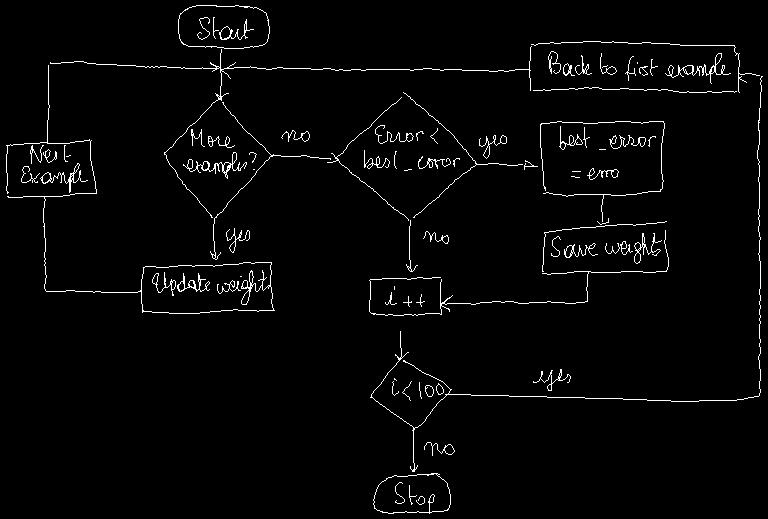arrow: (445, 73, 762, 401), (47, 61, 220, 143), (43, 196, 140, 292), (440, 271, 588, 311), (221, 62, 530, 78), (215, 49, 228, 100), (273, 153, 338, 162), (406, 220, 417, 271), (476, 160, 537, 169), (210, 219, 220, 259), (395, 331, 408, 360), (597, 195, 608, 224), (410, 429, 417, 471)
decision: (335, 92, 476, 220), (164, 98, 272, 218), (370, 359, 451, 430)
process: (529, 41, 739, 92), (540, 121, 664, 196), (141, 262, 274, 313), (542, 221, 668, 274), (6, 139, 96, 197), (369, 277, 441, 315)
terminator: (178, 5, 269, 48), (373, 473, 450, 513)
text: (548, 51, 730, 83), (559, 126, 655, 179), (364, 125, 459, 170), (152, 270, 269, 304), (183, 129, 256, 178), (551, 233, 661, 263), (21, 145, 87, 192), (197, 17, 253, 39), (395, 482, 434, 513), (392, 378, 443, 400), (385, 286, 424, 306), (533, 369, 570, 390), (479, 135, 506, 158), (226, 228, 249, 252), (424, 442, 454, 455), (281, 130, 309, 141), (423, 231, 448, 243)
